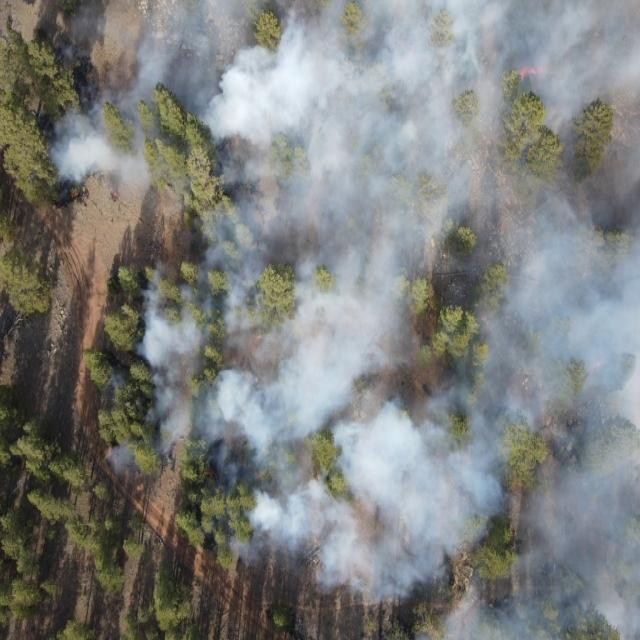fire: (517, 64, 540, 81), (202, 469, 216, 479), (252, 240, 262, 250), (112, 191, 120, 200)
smoke: (190, 188, 520, 596), (49, 0, 640, 186), (521, 187, 640, 640), (140, 264, 190, 456), (418, 595, 522, 640), (104, 445, 140, 476), (101, 374, 127, 394), (132, 343, 140, 358)
